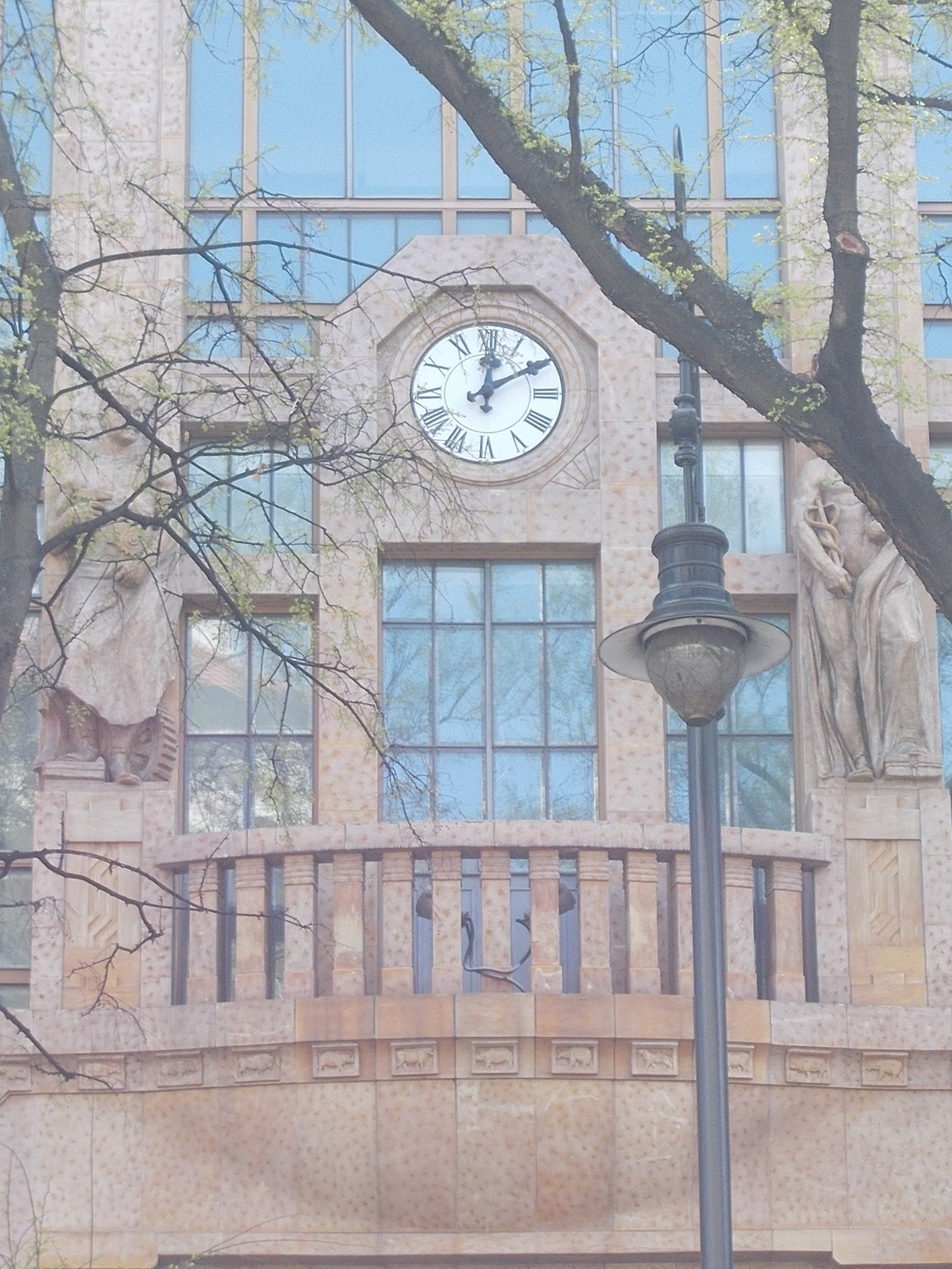fachada: (0, 0, 952, 1269)
poste: (615, 131, 797, 1269)
